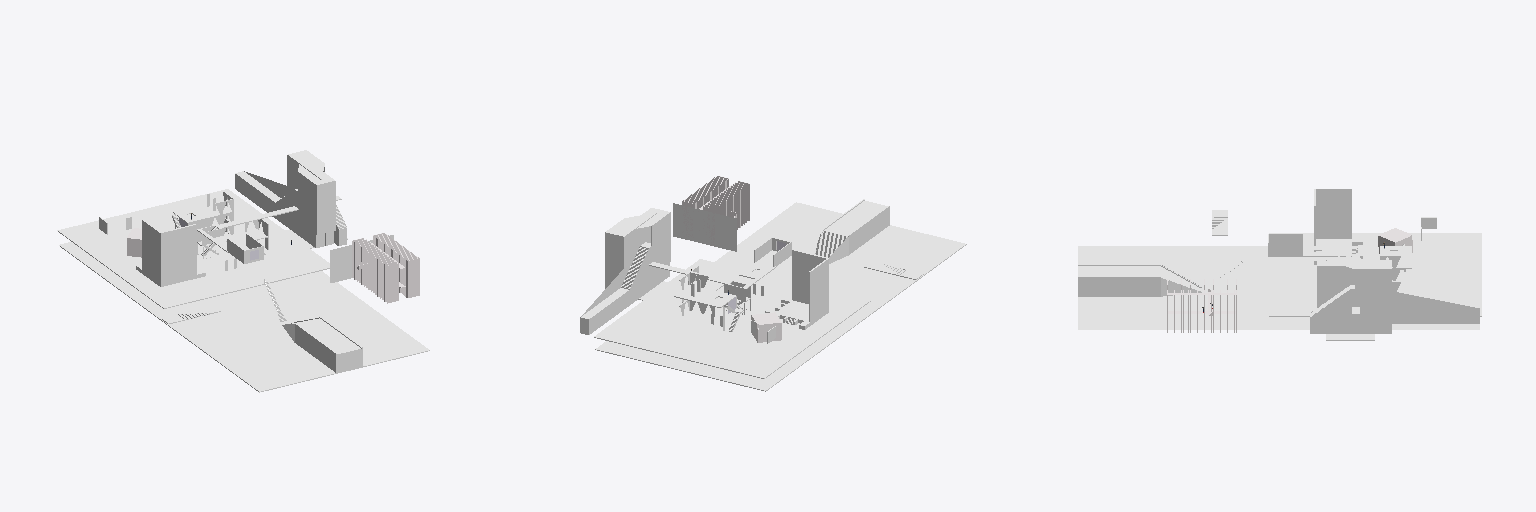
Rendered from Rest.obj.
3 views of the same model, side by side, from view 1: azimuth 30°, elevation 25°; view 2: azimuth 150°, elevation 25°; view 3: azimuth 270°, elevation 25° (orthographic).
Visible parts, largest first — view 1: Mesh139 Group106 Model, Mesh143 Group110 Model, Mesh100 Group59 Group58 Model, Mesh94 Group53 Group52 Model, Mesh134 Group101 Group94 Model, Mesh99 Group57 Group52 Model, Mesh97 Group55 Group52 Model, Mesh17 Group21 Group20 Model, Mesh120 Group83 Model; view 2: Mesh143 Group110 Model, Mesh139 Group106 Model, Mesh94 Group53 Group52 Model, Mesh134 Group101 Group94 Model, Mesh100 Group59 Group58 Model, Mesh97 Group55 Group52 Model, Mesh17 Group21 Group20 Model, Mesh99 Group57 Group52 Model, Mesh120 Group83 Model, Mesh90 Group49 Group47 Model; view 3: Mesh139 Group106 Model, Mesh143 Group110 Model, Mesh134 Group101 Group94 Model, Mesh98 Group56 Group52 Model, Mesh94 Group53 Group52 Model, Mesh100 Group59 Group58 Model, Mesh97 Group55 Group52 Model, Mesh99 Group57 Group52 Model.
Boxes of the visible parts, box(x1,y1,x2,y2) form: Mesh139 Group106 Model: box(59, 242, 429, 392); Mesh143 Group110 Model: box(57, 189, 329, 308); Mesh100 Group59 Group58 Model: box(142, 219, 196, 282); Mesh94 Group53 Group52 Model: box(235, 171, 324, 247); Mesh134 Group101 Group94 Model: box(278, 313, 362, 372); Mesh99 Group57 Group52 Model: box(298, 164, 335, 234); Mesh97 Group55 Group52 Model: box(287, 150, 324, 188); Mesh17 Group21 Group20 Model: box(330, 235, 393, 282); Mesh120 Group83 Model: box(172, 200, 232, 222); Mesh143 Group110 Model: box(594, 259, 870, 378); Mesh139 Group106 Model: box(595, 202, 966, 391); Mesh94 Group53 Group52 Model: box(580, 242, 669, 334); Mesh134 Group101 Group94 Model: box(815, 201, 889, 263); Mesh100 Group59 Group58 Model: box(776, 250, 828, 321); Mesh97 Group55 Group52 Model: box(605, 212, 656, 283); Mesh17 Group21 Group20 Model: box(673, 203, 736, 251); Mesh99 Group57 Group52 Model: box(637, 208, 670, 261); Mesh120 Group83 Model: box(674, 285, 736, 307); Mesh90 Group49 Group47 Model: box(751, 312, 781, 342); Mesh139 Group106 Model: box(1078, 246, 1479, 329); Mesh143 Group110 Model: box(1269, 233, 1481, 316); Mesh134 Group101 Group94 Model: box(1078, 264, 1217, 296); Mesh98 Group56 Group52 Model: box(1310, 285, 1391, 333); Mesh94 Group53 Group52 Model: box(1392, 291, 1479, 323); Mesh100 Group59 Group58 Model: box(1314, 189, 1351, 255); Mesh97 Group55 Group52 Model: box(1326, 260, 1391, 319); Mesh99 Group57 Group52 Model: box(1317, 257, 1363, 307).
Size of the model in its own units: 200 by 61.02 by 288.